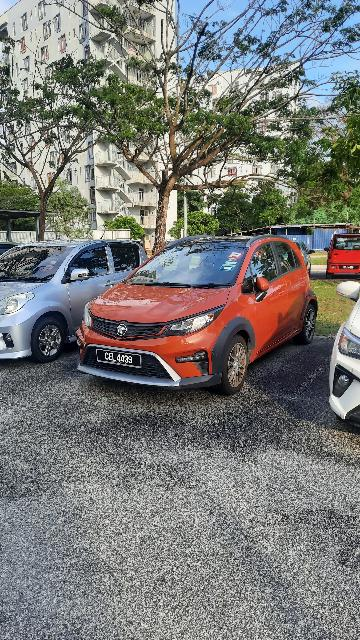License_Plate: (94, 349, 148, 371)
car: (78, 230, 321, 395), (1, 235, 149, 364)
